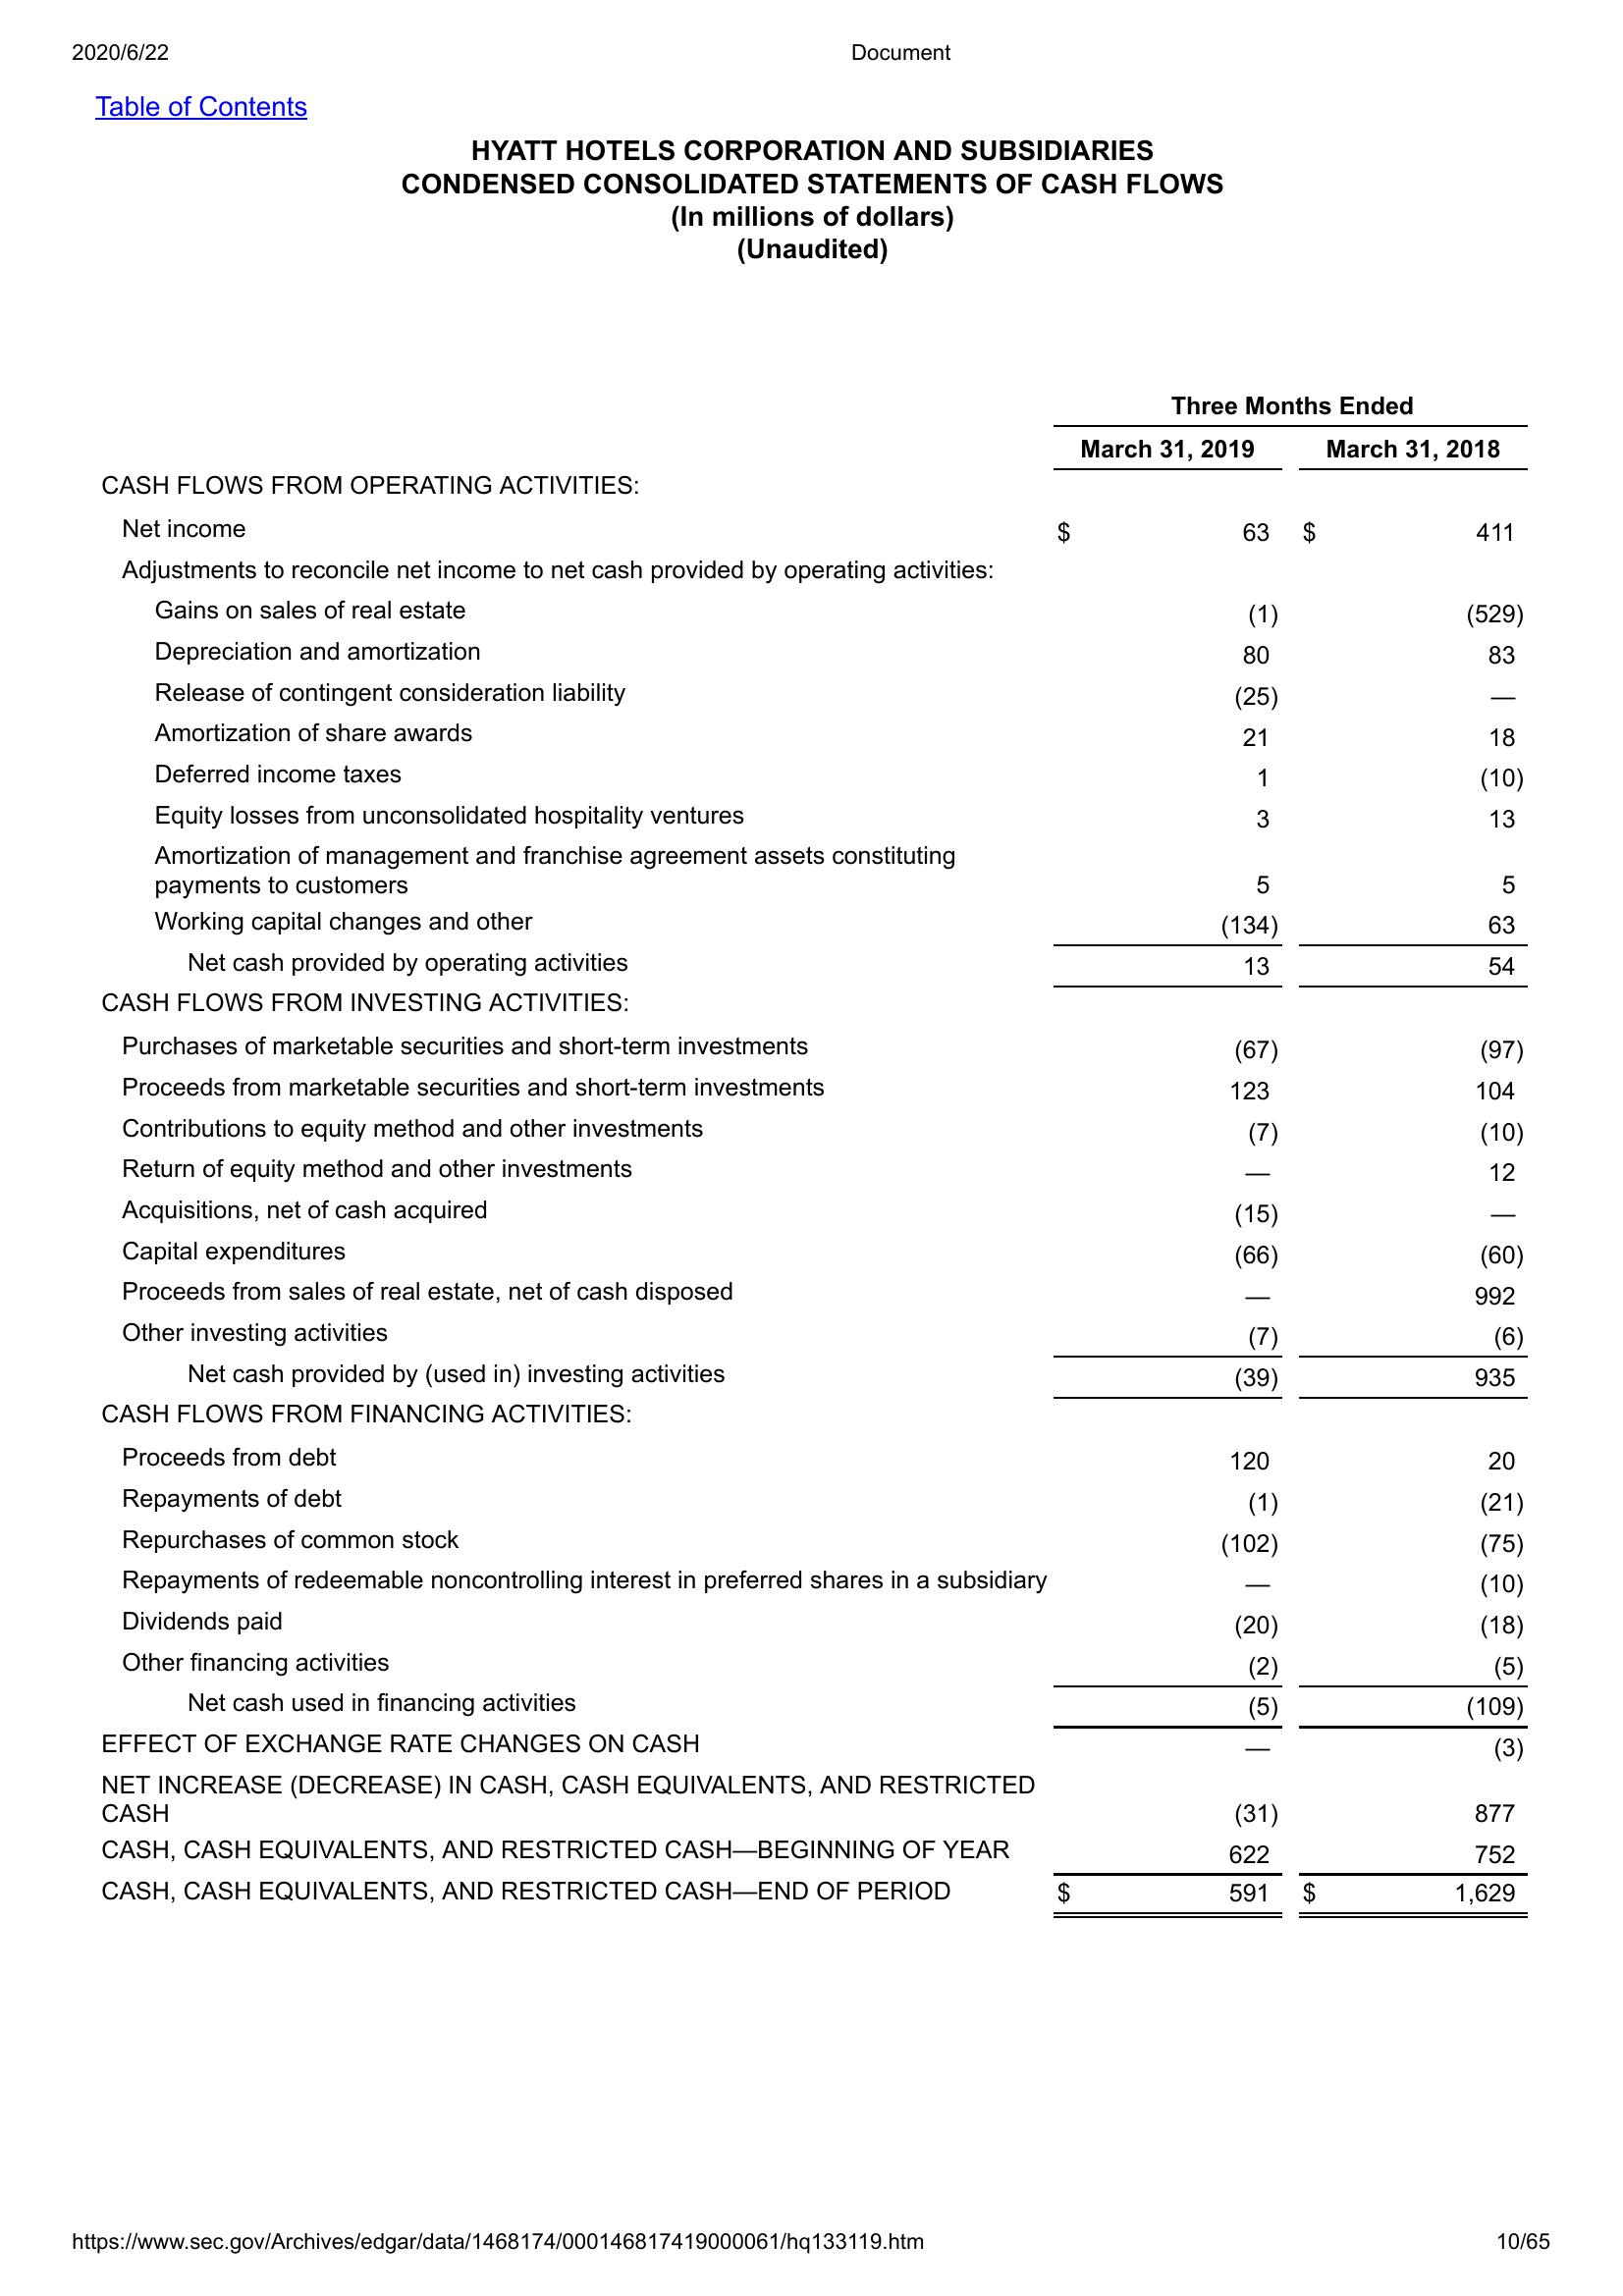table: (91, 374, 1540, 1933)
